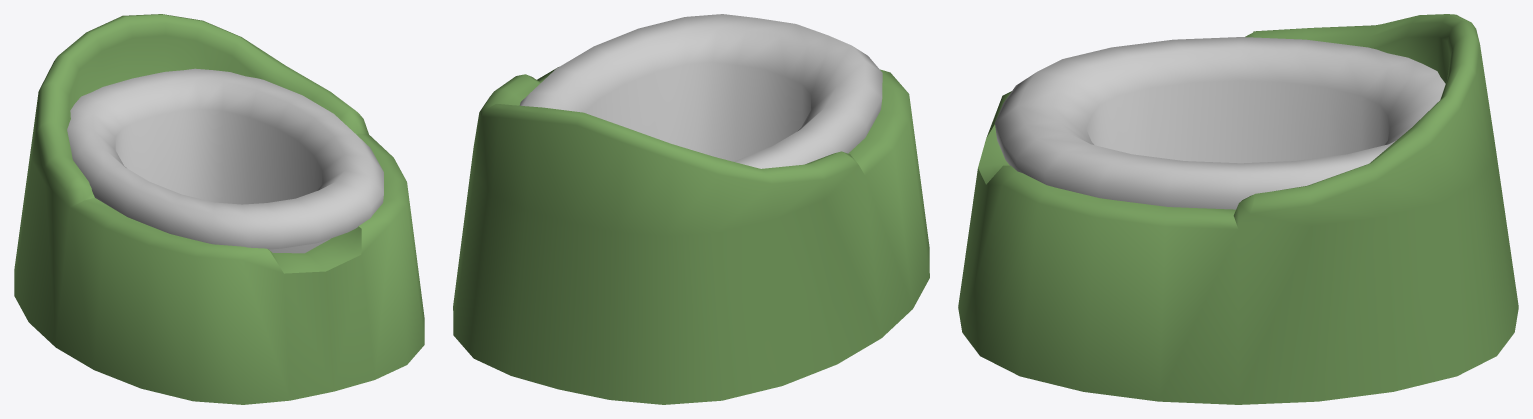
The model's file is PottySeat_01.fbx.
3 views of the same model, side by side, from view 1: azimuth 30°, elevation 25°; view 2: azimuth 150°, elevation 25°; view 3: azimuth 270°, elevation 25° (orthographic). The views are drawn at different scales.
Parts seen in each view (by area): view 1: PottySeat_01; view 2: PottySeat_01; view 3: PottySeat_01.
Part boxes in pixels (x1=…): PottySeat_01: x1=14, y1=14, x2=424, y2=404; PottySeat_01: x1=453, y1=14, x2=929, y2=404; PottySeat_01: x1=958, y1=14, x2=1518, y2=404.
Size of the model in its own units: 0.299 by 0.194 by 0.3627.
